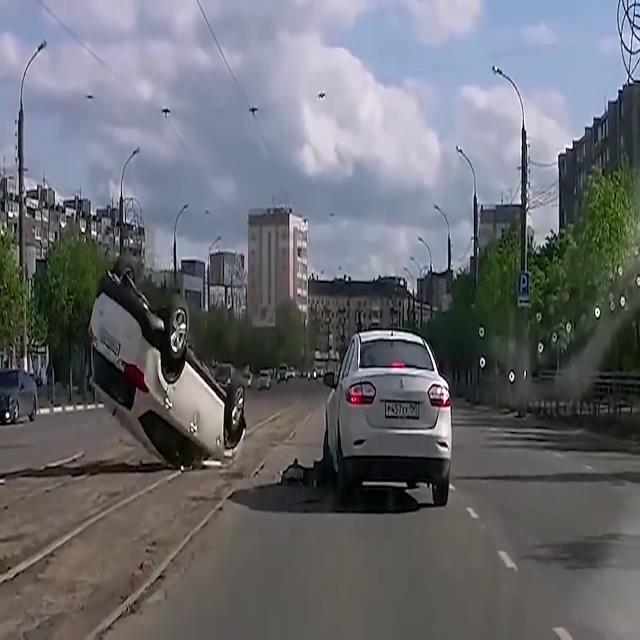accident: (89, 262, 247, 468)
non-accident: (278, 365, 296, 385)
